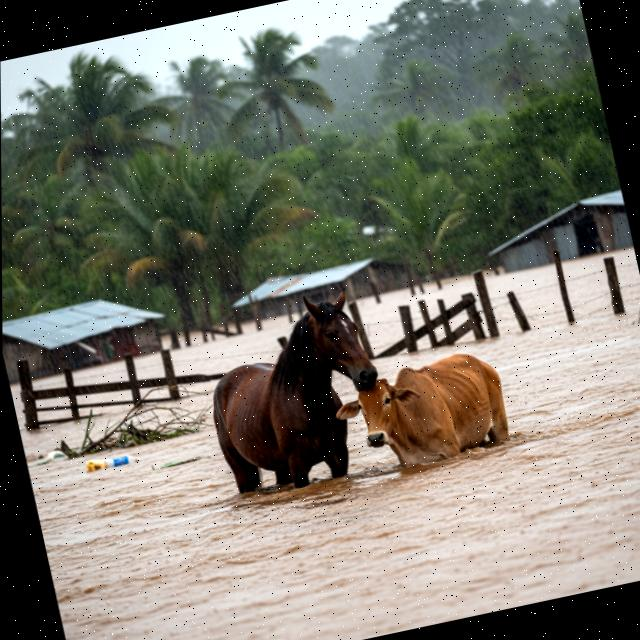cow: (329, 338, 539, 509)
horse: (174, 282, 407, 525)
